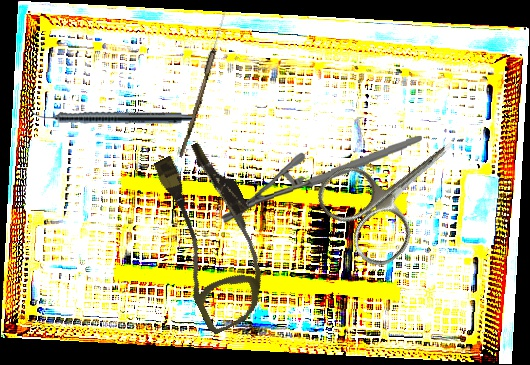Cannula: (132, 134, 293, 337)
Handpiece: (32, 109, 192, 124)
Iris Scissors: (309, 103, 486, 275)
Needle Holder: (217, 135, 426, 224)
Surgical Spoon: (179, 9, 228, 160)
